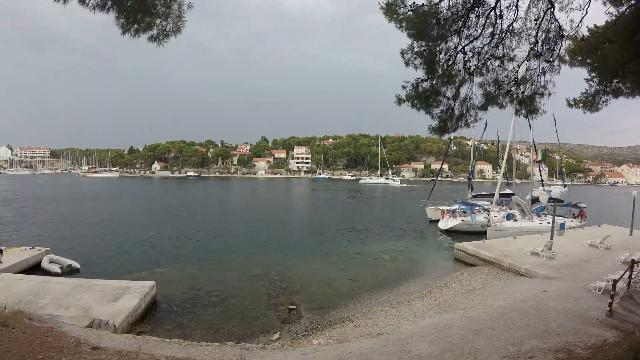Sailboat: (358, 172, 404, 185)
speedboat: (384, 175, 410, 187)
